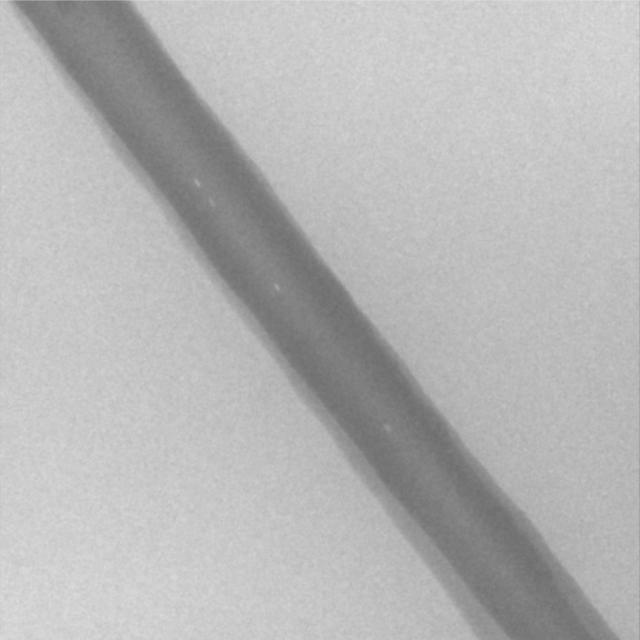air hole: (381, 421, 392, 433), (191, 176, 201, 188), (272, 282, 281, 294)
